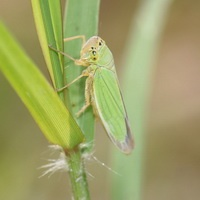insect: (49, 36, 133, 153)
